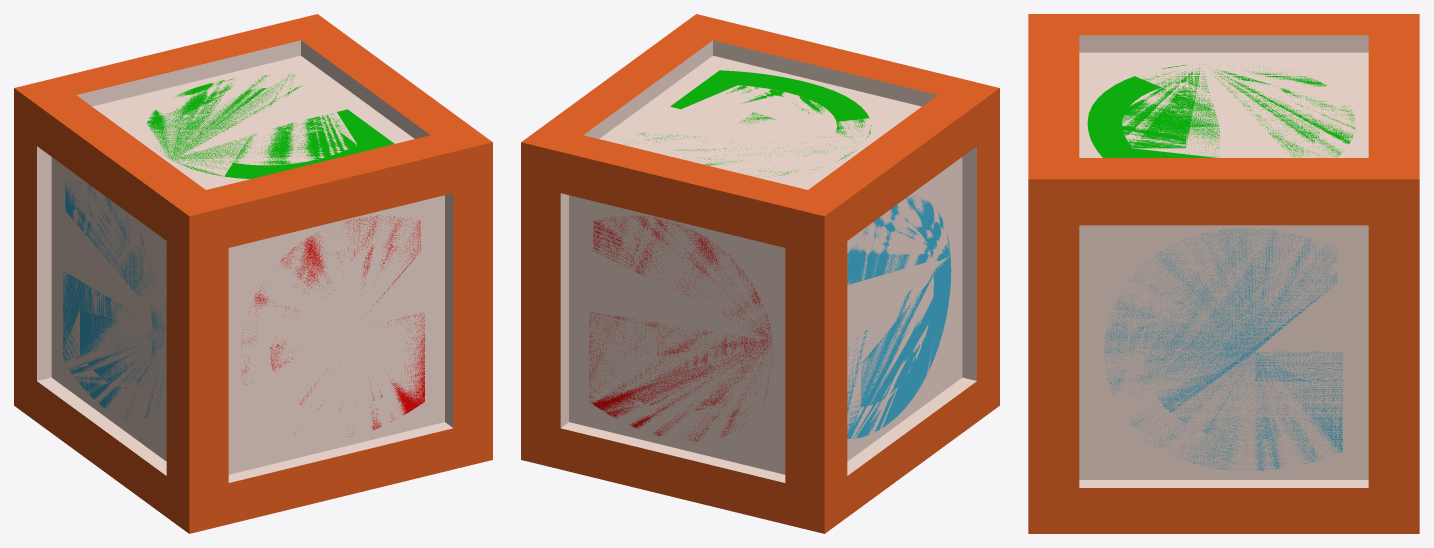
The model's file is Prop_KidsCube_G.fbx.
3 views of the same model, side by side, from view 1: azimuth 30°, elevation 25°; view 2: azimuth 150°, elevation 25°; view 3: azimuth 270°, elevation 25° (orthographic). The views are drawn at different scales.
Visible parts, largest first — view 1: Prop_KidsCube_G; view 2: Prop_KidsCube_G; view 3: Prop_KidsCube_G.
Part boxes in pixels (x1,y1,x2,y2): Prop_KidsCube_G: (14,14,492,533); Prop_KidsCube_G: (521,14,999,533); Prop_KidsCube_G: (1028,14,1419,533).
Bounding box in the file's own units: 20.93 × 20.93 × 20.93.
